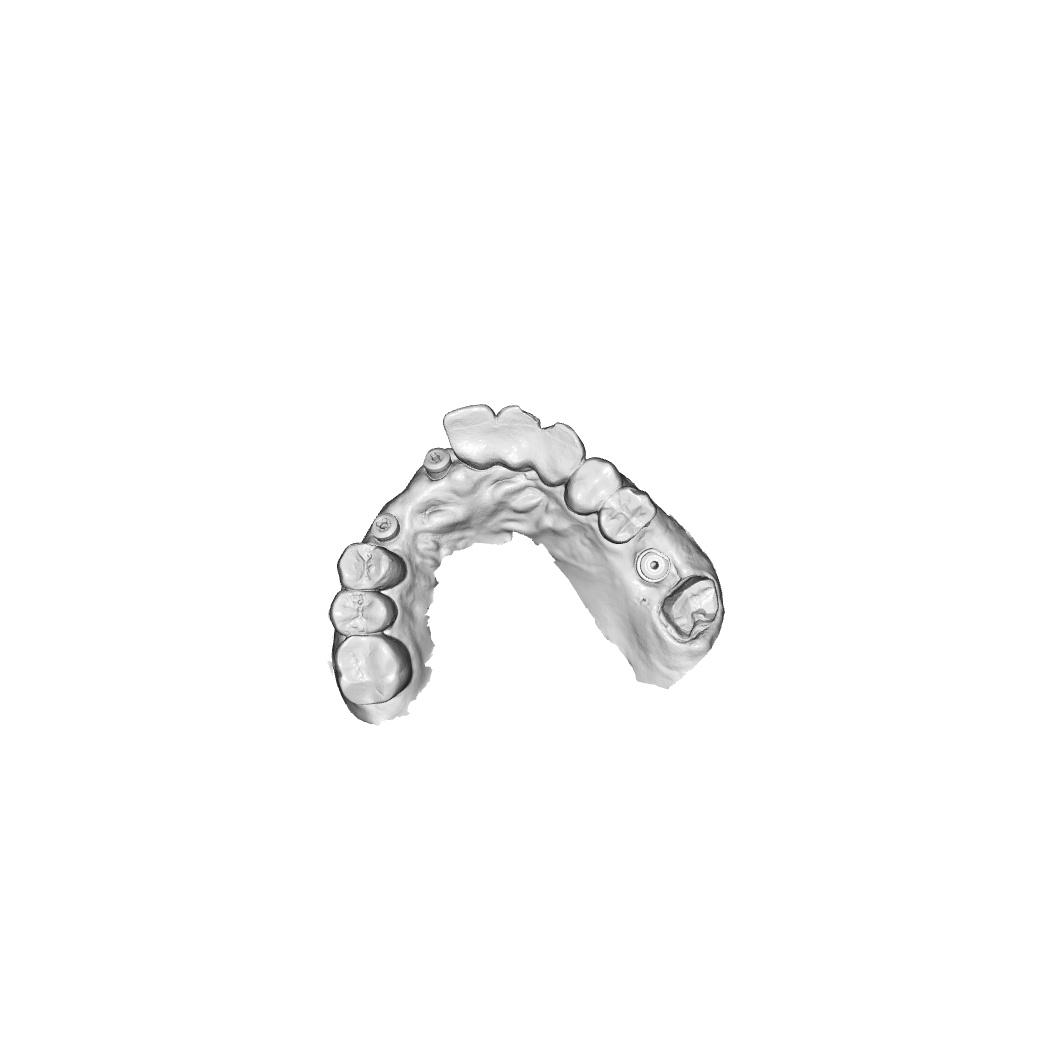canine: (538, 422, 588, 488)
crown: (660, 572, 720, 643)
implant: (634, 547, 673, 584)
implant_minus: (423, 447, 454, 482)
implant_plus: (370, 511, 402, 542)
incisor: (443, 402, 497, 471), (497, 404, 541, 473)
molar: (333, 634, 414, 707)
premolar: (563, 456, 624, 517), (597, 485, 658, 545), (336, 542, 409, 592), (328, 588, 399, 637)
